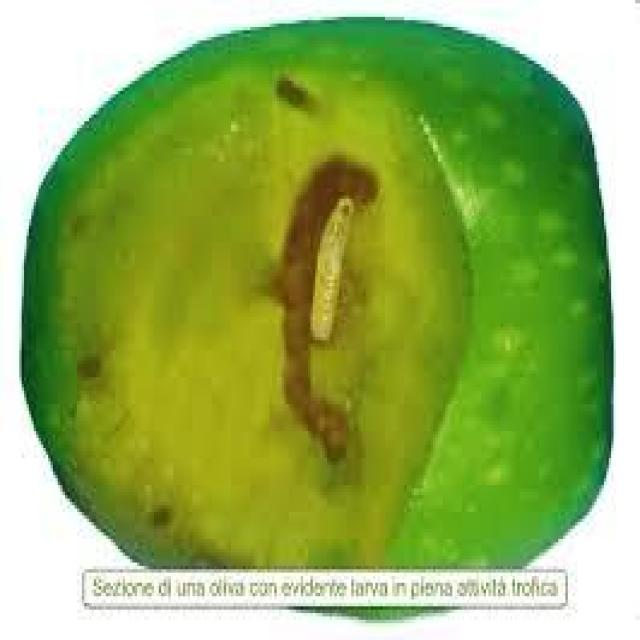Olive Fruit Fly: (22, 17, 611, 563)
